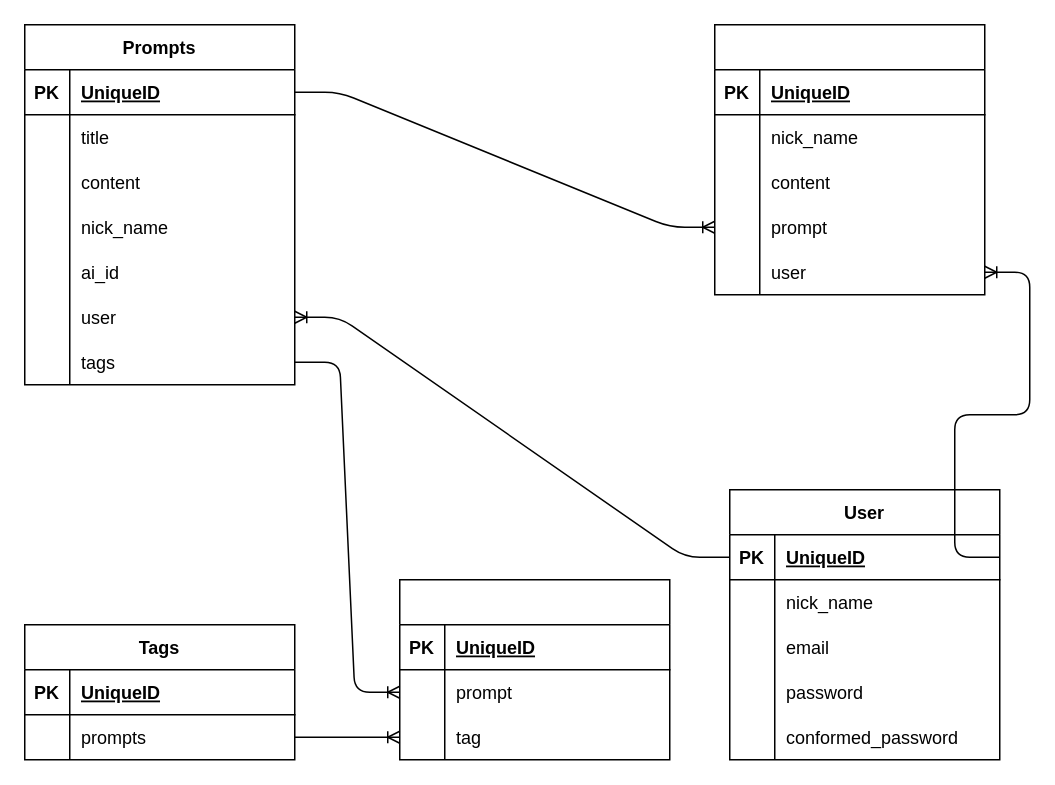
This 1055x785 diagram has some shape labels left out. Each missing label, with the box of its shape:
Comments: (713, 23, 985, 295)
Table: (398, 578, 670, 760)
